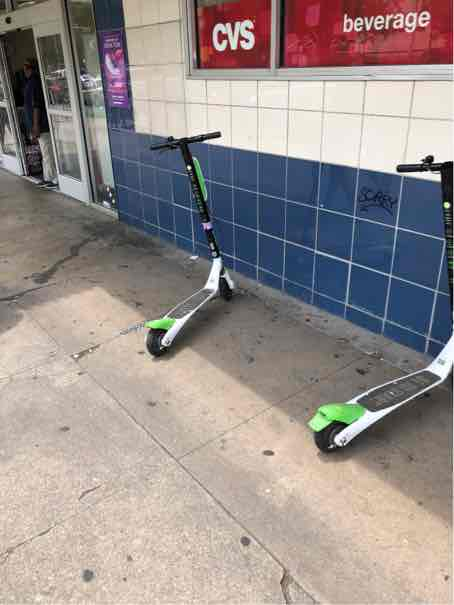scooter: (304, 152, 454, 464), (116, 122, 263, 373)
